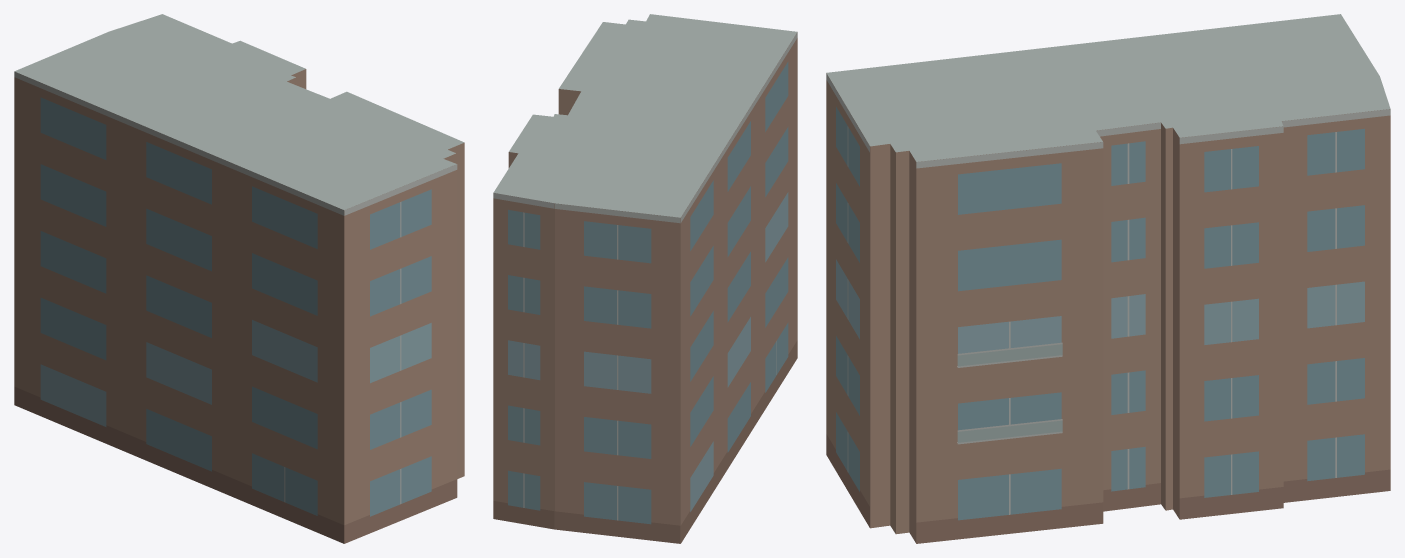
The model's file is survey-upis-32711240.glb.
3 views of the same model, side by side, from view 1: azimuth 30°, elevation 25°; view 2: azimuth 150°, elevation 25°; view 3: azimuth 270°, elevation 25° (orthographic). The views are drawn at different scales.
Parts seen in each view (by area): view 1: survey-upis-32711240.tmp; view 2: survey-upis-32711240.tmp; view 3: survey-upis-32711240.tmp.
Part boxes in pixels (box(x1,y1,x2,y2)): survey-upis-32711240.tmp: box(14, 14, 464, 543); survey-upis-32711240.tmp: box(493, 14, 797, 543); survey-upis-32711240.tmp: box(826, 14, 1390, 543).
Size of the model in its own units: 11.9 by 14.3 by 19.16.
